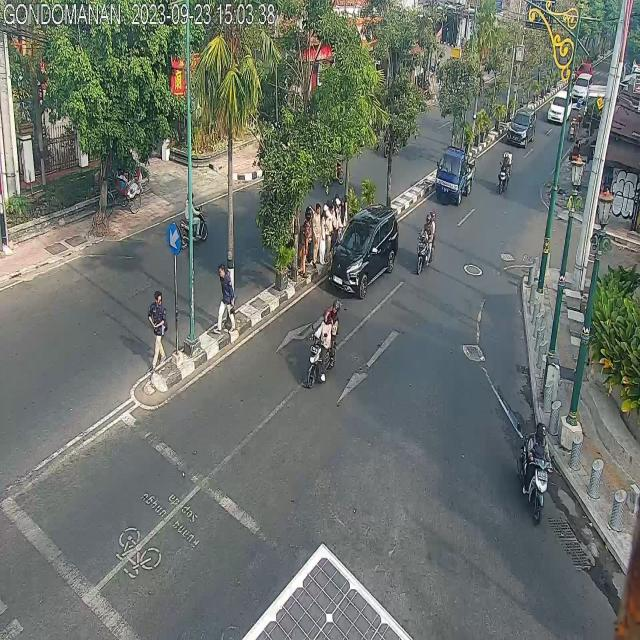car: (326, 204, 399, 297)
motorcycle: (519, 420, 553, 527), (307, 300, 342, 385), (177, 182, 208, 252), (416, 210, 436, 278), (509, 106, 535, 146), (548, 92, 572, 120), (500, 152, 510, 190)
truck: (436, 149, 476, 206)
